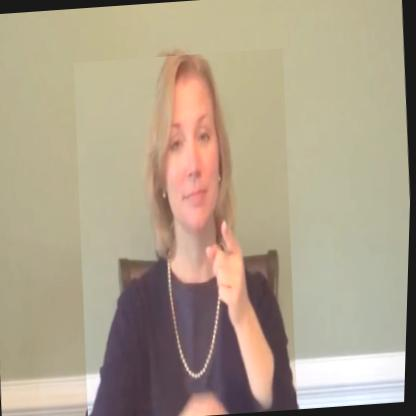NiceToMeetYou: (66, 48, 308, 416)
